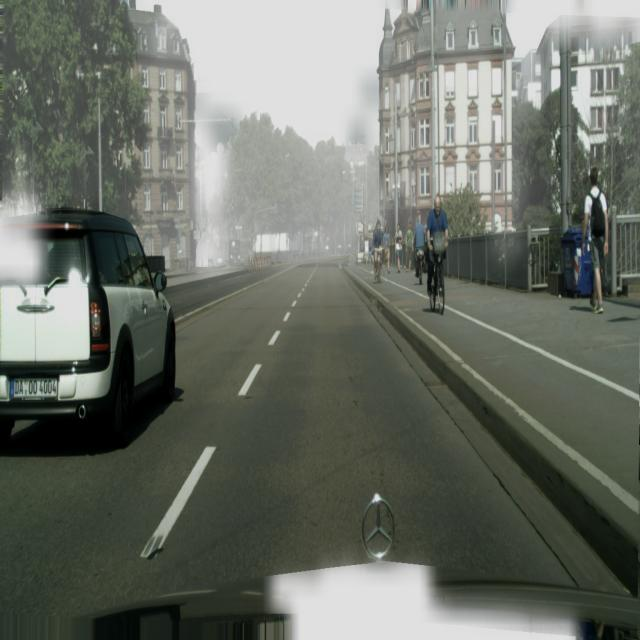car: (427, 196, 451, 314), (414, 205, 425, 286), (373, 220, 382, 282)
person: (582, 166, 608, 314), (394, 221, 403, 271), (405, 221, 414, 270), (383, 223, 392, 272)
truck: (1, 209, 177, 448)
